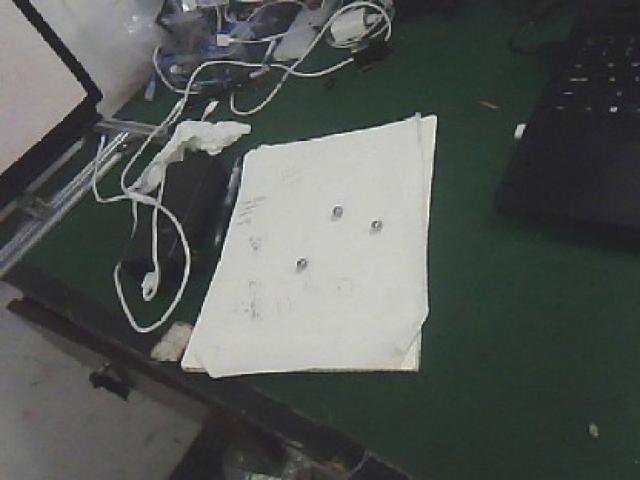steel-ball: (278, 243, 316, 280), (322, 197, 348, 221), (366, 212, 379, 234)
